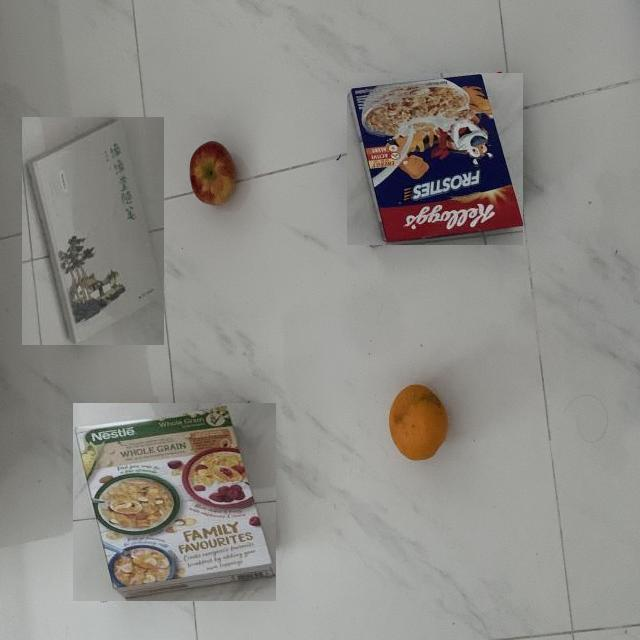Apple: (185, 138, 240, 210)
Book: (21, 116, 164, 345)
Cerealbox: (73, 403, 276, 600), (347, 73, 523, 245)
Orange: (389, 382, 449, 465)
